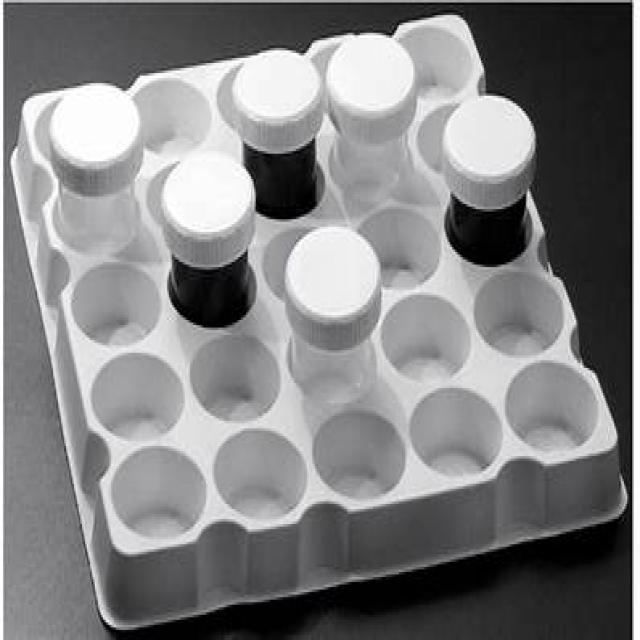vial: (163, 159, 255, 242), (448, 108, 536, 192), (242, 59, 322, 151), (291, 225, 373, 314), (58, 84, 135, 161), (334, 47, 408, 113)
